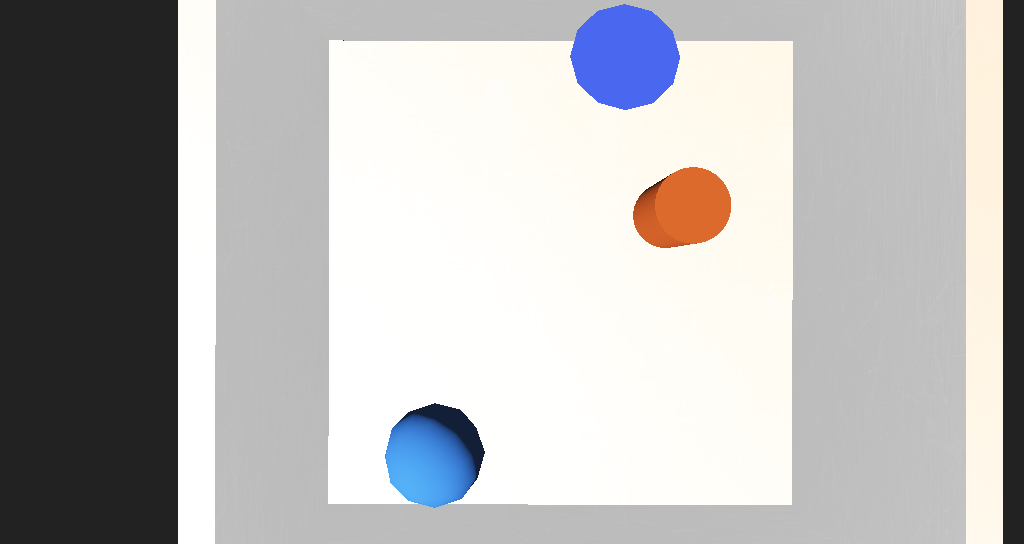cone: (552, 220, 606, 258)
cylinder: (505, 155, 573, 208)
sphere: (391, 324, 458, 372)
